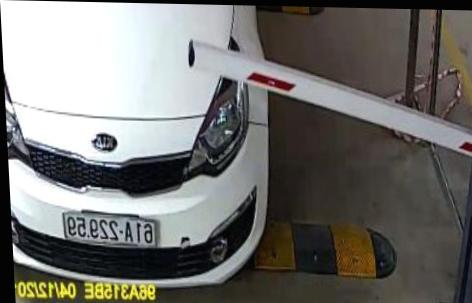License_Plate: (61, 207, 165, 249)
